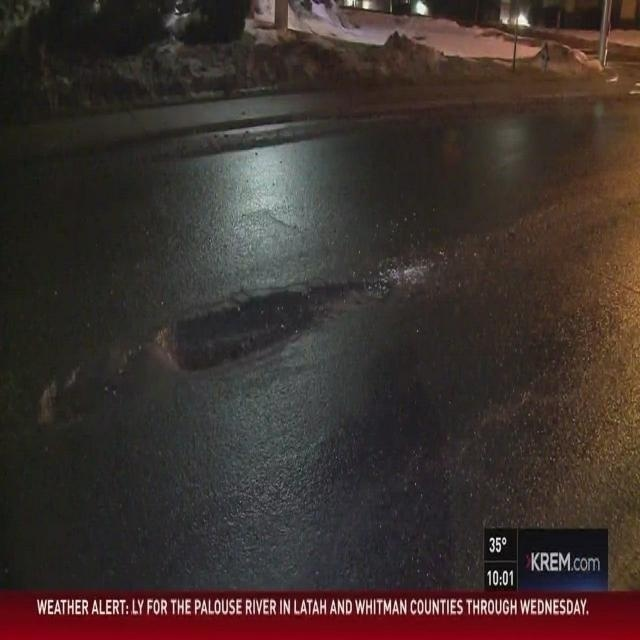pothole: (160, 278, 336, 386), (35, 339, 110, 446)
